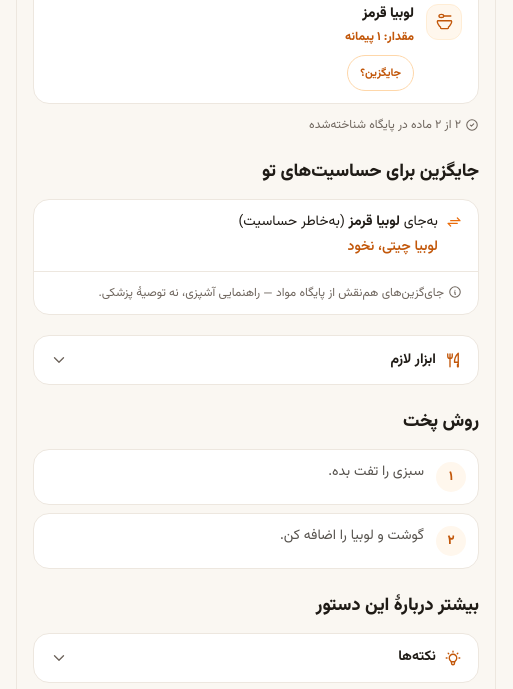
Test: RecipeDetailPage smoke › surfaces the computed richness the UI used to drop: substitutions, tools, mealType, integrity coverage
(page scrolled)
Expected: the heading "جایگزین برای حساسیت‌های تو" is shown, [262,158,479,186]
Expected: the text "لوبیا چیتی، نخود" is shown, [348,236,438,258]
Click the button "ابزار لازم".
click(413, 360)  # box [34,336,478,384]
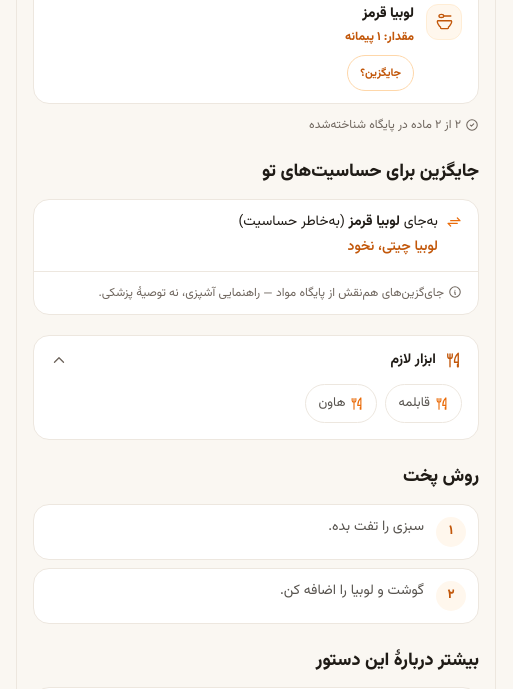
Expected: the text "۲ از ۲ ماده در پایگاه شناخته‌شده" is shown, [309,116,461,135]
Now the text "قابلمه" is shown, box [386,384,462,423]
